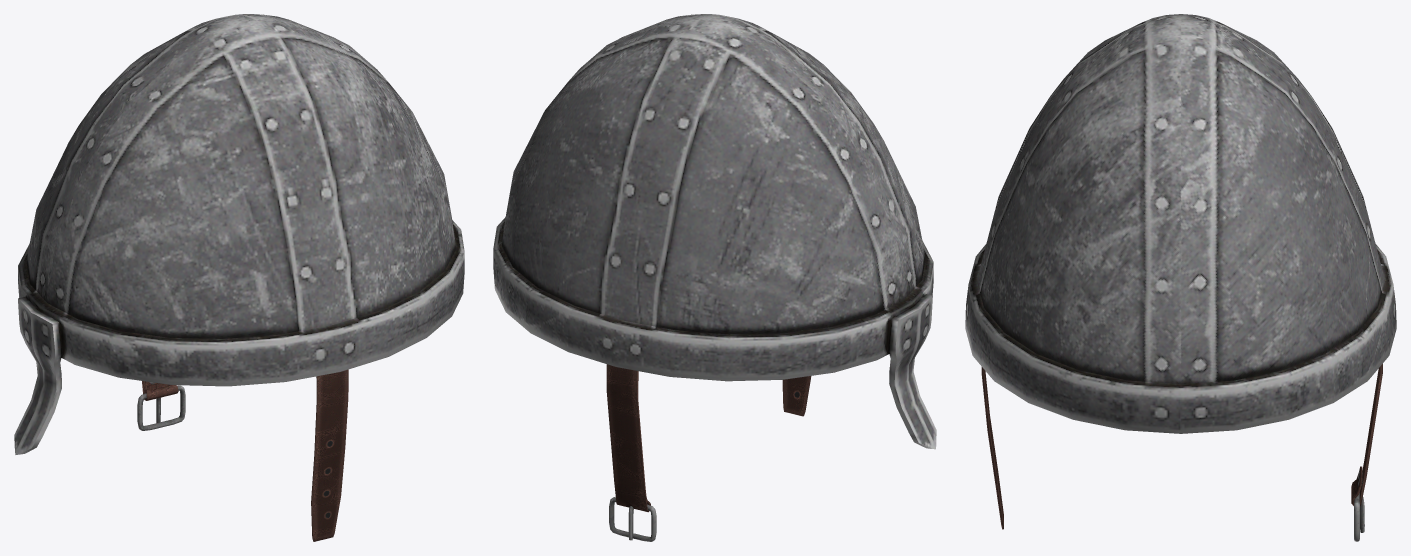
Rendered from Scandinavian_Helmet_02.fbx.
3 renders of one model, left to right at view 1: azimuth 30°, elevation 25°; view 2: azimuth 150°, elevation 25°; view 3: azimuth 270°, elevation 25°, orthographic. The views are drawn at different scales.
Visible parts, largest first — view 1: Scandinavian_Helmet_02_LOD0; view 2: Scandinavian_Helmet_02_LOD0; view 3: Scandinavian_Helmet_02_LOD0.
Part boxes in pixels (<box>): Scandinavian_Helmet_02_LOD0: <box>14,14,464,541</box>; Scandinavian_Helmet_02_LOD0: <box>493,14,936,541</box>; Scandinavian_Helmet_02_LOD0: <box>965,14,1396,541</box>.
Size of what is drawn, in the model's own units: 25.98 by 27 by 20.9.
